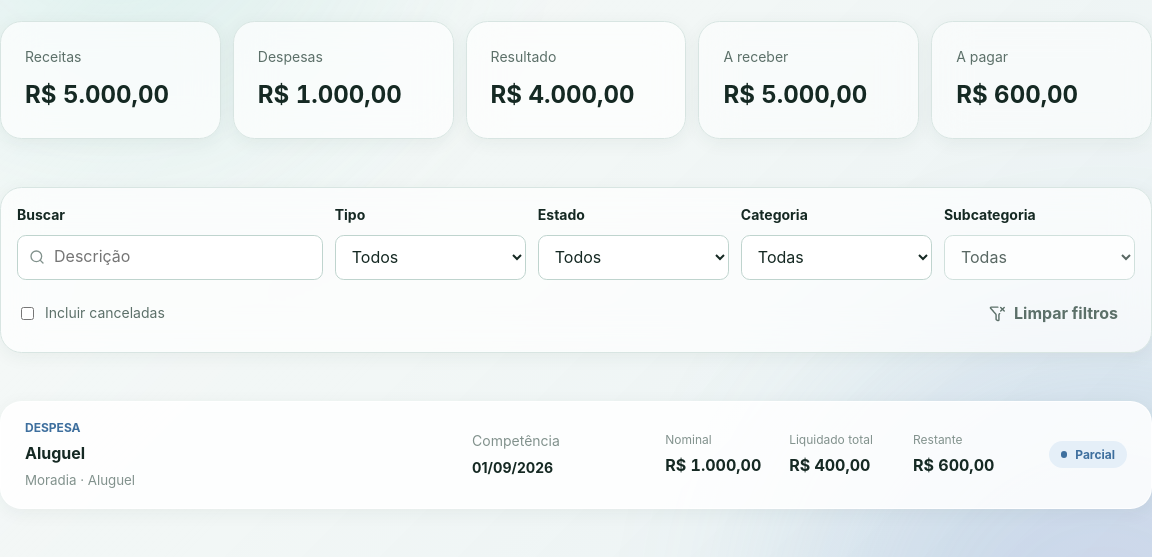
it: Movimentações Web › expõe validações locais dos campos obrigatórios da liquidação
(page scrolled)
Click the text "Aluguel".
click(55, 453)  # box x1=25 y1=443 x2=85 y2=463
(page scrolled)
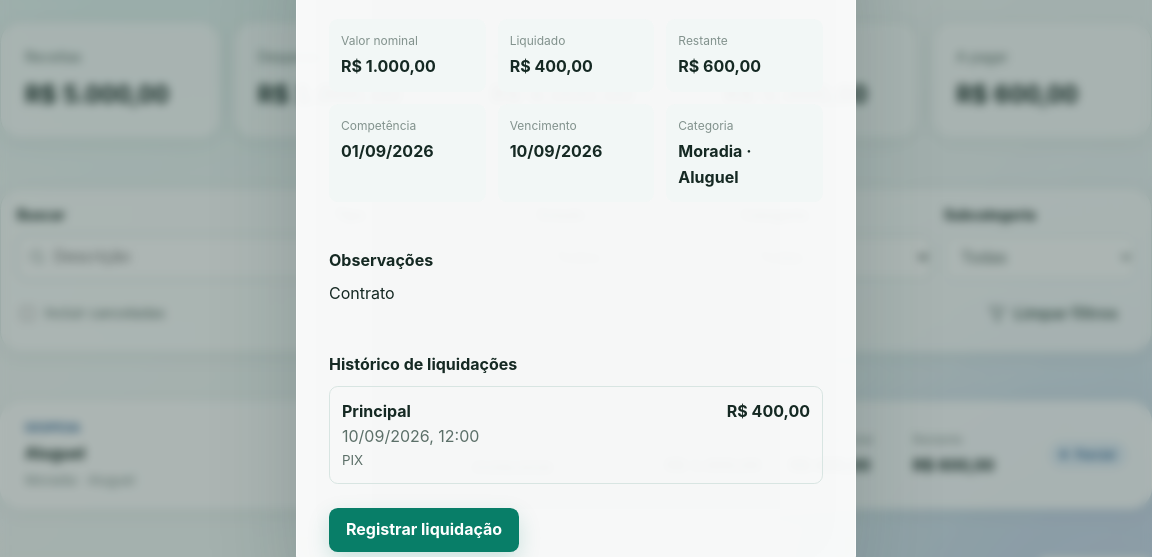
Click the button "Registrar liquidação".
click(424, 530)  # box x1=329 y1=508 x2=519 y2=552
(page scrolled)
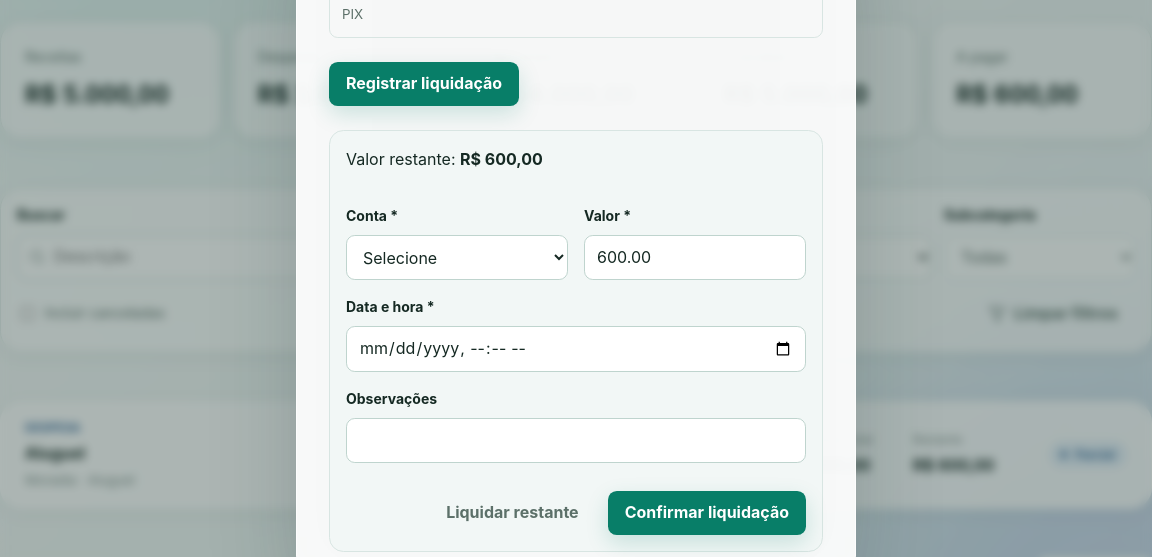
Clear the field labelled "Valor *" at x=695, y=258, box x1=584 y1=235 x2=806 y2=280
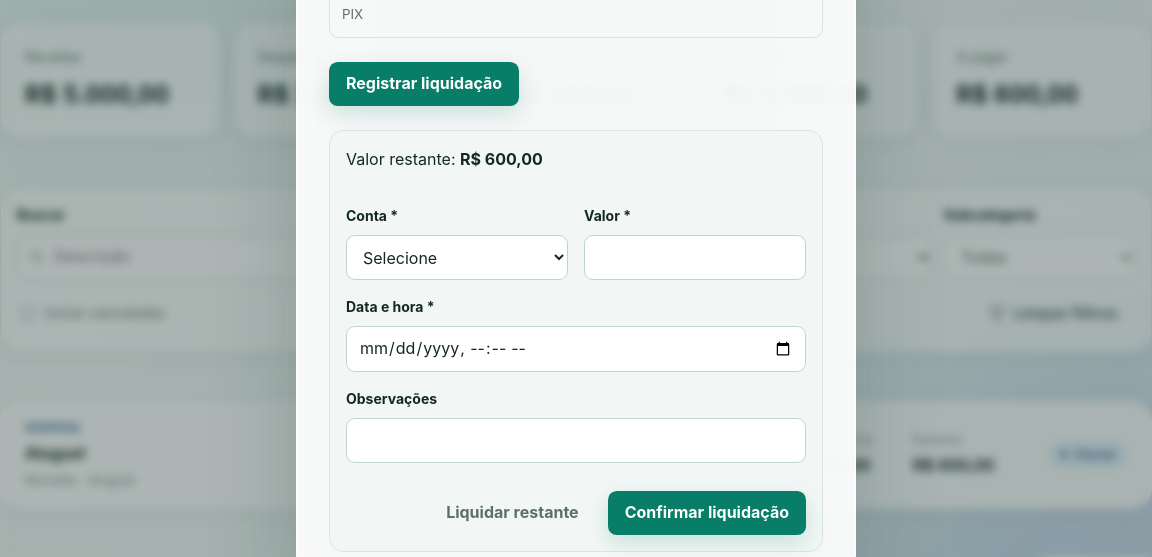
Click the button "Confirmar liquidação".
click(707, 513)  # box x1=608 y1=491 x2=806 y2=535
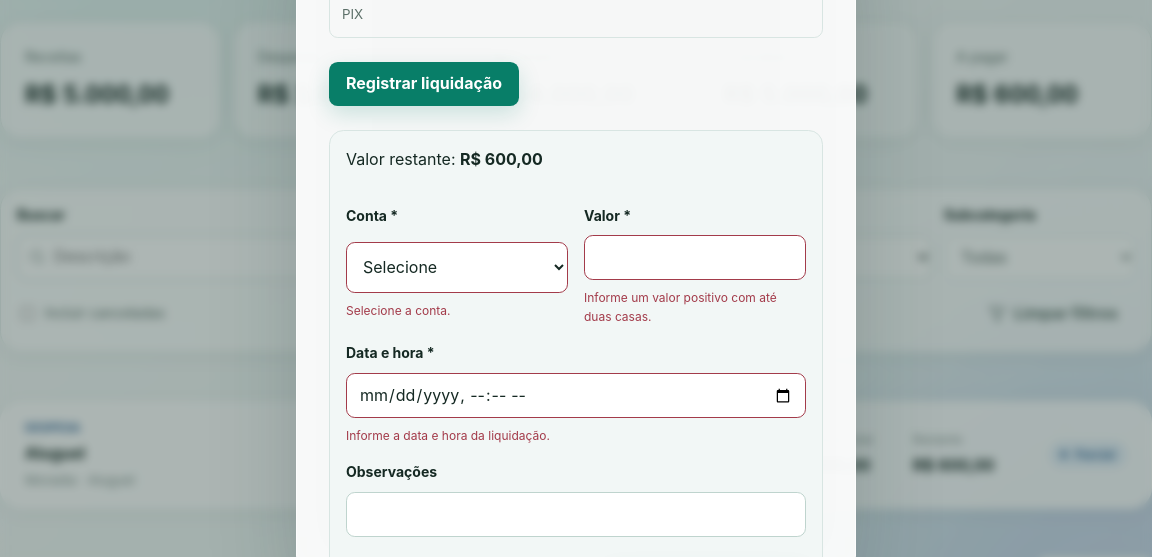
Now the text "Selecione a conta." is shown, box x1=346 y1=303 x2=450 y2=318
Now the text "Informe um valor positivo com até duas casas." is shown, box x1=584 y1=288 x2=806 y2=326
Now the text "Informe a data e hora da liquidação." is shown, box x1=346 y1=428 x2=550 y2=443
